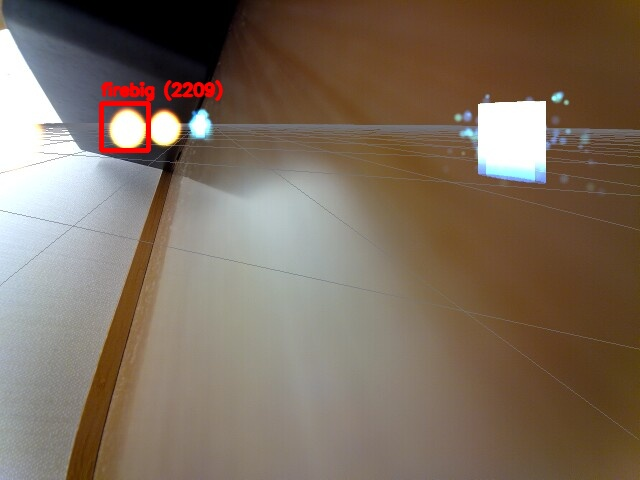firebig: (101, 103, 148, 150)
